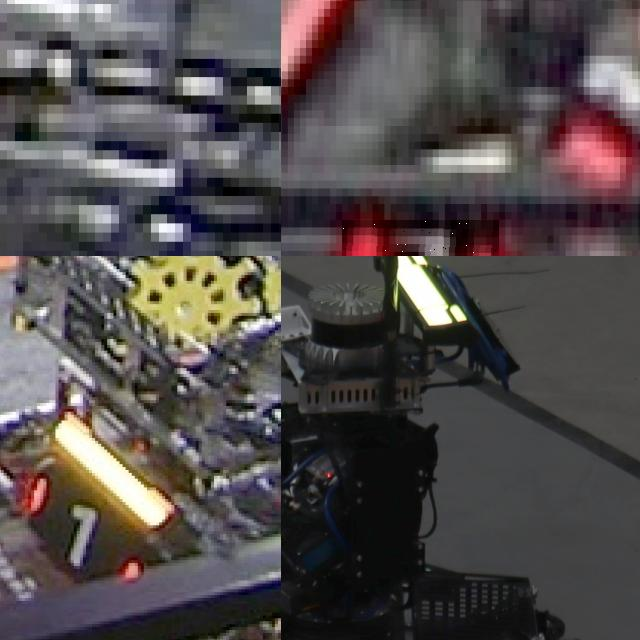R1: (7, 467, 141, 592)
R3: (342, 219, 499, 256)
